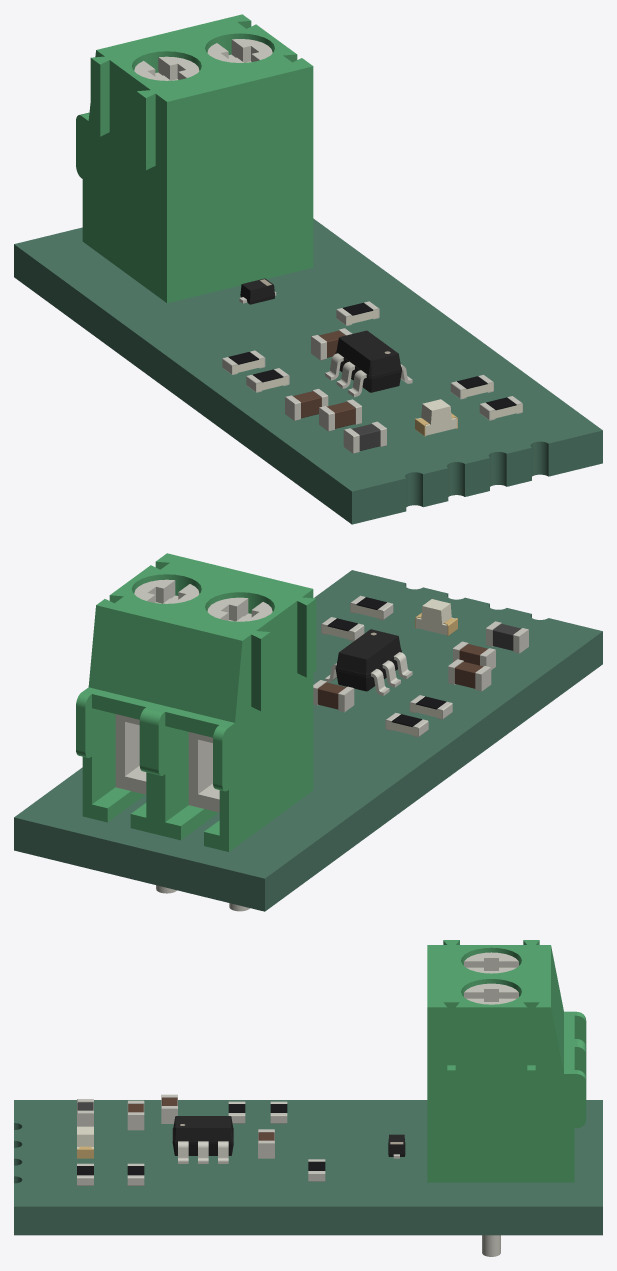
The model's file is stamp_qt.glb.
The picture shows the model from 3 angles, top to bottom: view 1: azimuth 30°, elevation 25°; view 2: azimuth 150°, elevation 25°; view 3: azimuth 270°, elevation 25°; orthographic projection. The views are drawn at different scales.
Visible parts, largest first — view 1: =>[0:1:1:16], =>[0:1:1:15], =>[0:1:1:5] (×5), =>[0:1:1:13], =>[0:1:1:9] (×3), =>[0:1:1:11], =>[0:1:1:3], =>[0:1:1:7]; view 2: =>[0:1:1:16], =>[0:1:1:15], =>[0:1:1:13], =>[0:1:1:5] (×4), =>[0:1:1:9] (×3), =>[0:1:1:11], =>[0:1:1:3]; view 3: =>[0:1:1:16], =>[0:1:1:15], =>[0:1:1:13], =>[0:1:1:9] (×3), =>[0:1:1:11], =>[0:1:1:3].
Part boxes in pixels (box(x1,y1,x2,y2)): =>[0:1:1:16]: box(14, 218, 602, 524); =>[0:1:1:15]: box(76, 14, 313, 303); =>[0:1:1:5] (×5): box(222, 301, 522, 420); =>[0:1:1:13]: box(325, 330, 412, 397); =>[0:1:1:9] (×3): box(285, 328, 361, 431); =>[0:1:1:11]: box(415, 399, 457, 436); =>[0:1:1:3]: box(343, 421, 386, 453); =>[0:1:1:7]: box(239, 278, 276, 304); =>[0:1:1:16]: box(14, 570, 602, 911); =>[0:1:1:15]: box(76, 553, 316, 911); =>[0:1:1:13]: box(325, 629, 412, 695); =>[0:1:1:5] (×4): box(321, 595, 452, 737); =>[0:1:1:9] (×3): box(313, 641, 495, 712); =>[0:1:1:11]: box(415, 599, 457, 636); =>[0:1:1:3]: box(486, 621, 528, 653); =>[0:1:1:16]: box(14, 1100, 602, 1235); =>[0:1:1:15]: box(427, 940, 586, 1256); =>[0:1:1:13]: box(172, 1116, 233, 1163); =>[0:1:1:9] (×3): box(127, 1094, 274, 1158); =>[0:1:1:11]: box(77, 1126, 93, 1158); =>[0:1:1:3]: box(77, 1099, 93, 1126).
Bounding box in the file's own units: 0.012 × 0.0137 × 0.028.
